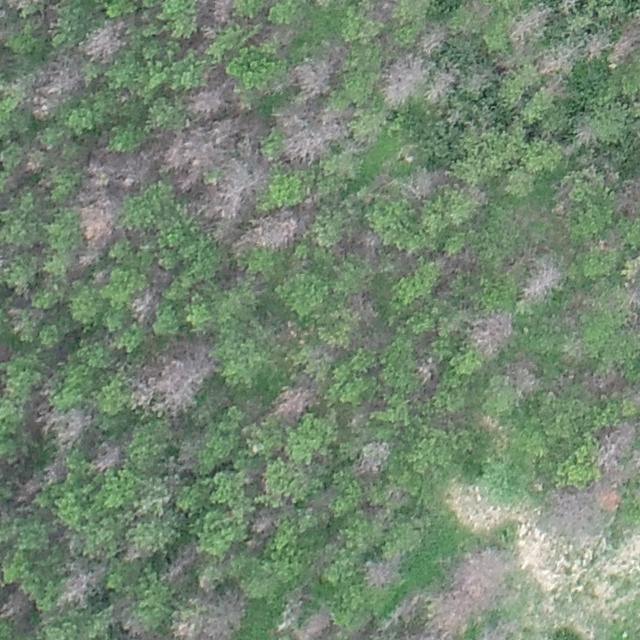unhealthy: (185, 154, 267, 238), (132, 337, 216, 417), (443, 543, 512, 608), (163, 125, 227, 190), (279, 102, 345, 165), (173, 587, 247, 640), (29, 53, 83, 119), (289, 40, 347, 99), (88, 144, 160, 191), (546, 487, 598, 536), (465, 308, 514, 359), (422, 591, 473, 639), (78, 187, 117, 248), (595, 417, 636, 474), (58, 559, 105, 608), (379, 55, 425, 104), (250, 209, 301, 250), (506, 3, 553, 46), (81, 19, 127, 62), (272, 382, 319, 422), (52, 405, 95, 446), (521, 260, 562, 302), (611, 11, 640, 65), (353, 440, 394, 478), (163, 541, 200, 583), (363, 552, 405, 587), (504, 355, 539, 396), (274, 587, 305, 633), (185, 85, 226, 119), (537, 42, 579, 75), (405, 165, 446, 198), (582, 366, 625, 397), (0, 585, 35, 622), (128, 284, 160, 324), (389, 588, 426, 620), (345, 290, 379, 324), (416, 23, 451, 56), (426, 65, 457, 102), (588, 480, 623, 512), (614, 174, 640, 217), (296, 611, 334, 640), (90, 442, 125, 472), (121, 616, 161, 639), (582, 29, 610, 61), (12, 477, 42, 506), (477, 620, 517, 640), (250, 509, 278, 535), (413, 356, 439, 384), (203, 0, 233, 24), (625, 271, 639, 316), (43, 460, 68, 484), (356, 230, 380, 254), (572, 122, 596, 146), (463, 182, 488, 205)
